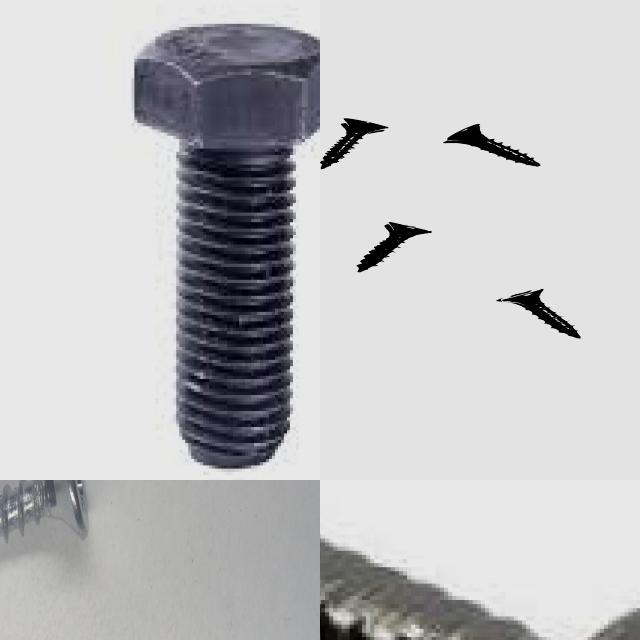Screw: (131, 24, 320, 475), (320, 540, 545, 640), (0, 480, 88, 539), (498, 290, 582, 339), (445, 124, 542, 166), (358, 223, 432, 272), (321, 118, 389, 169)
